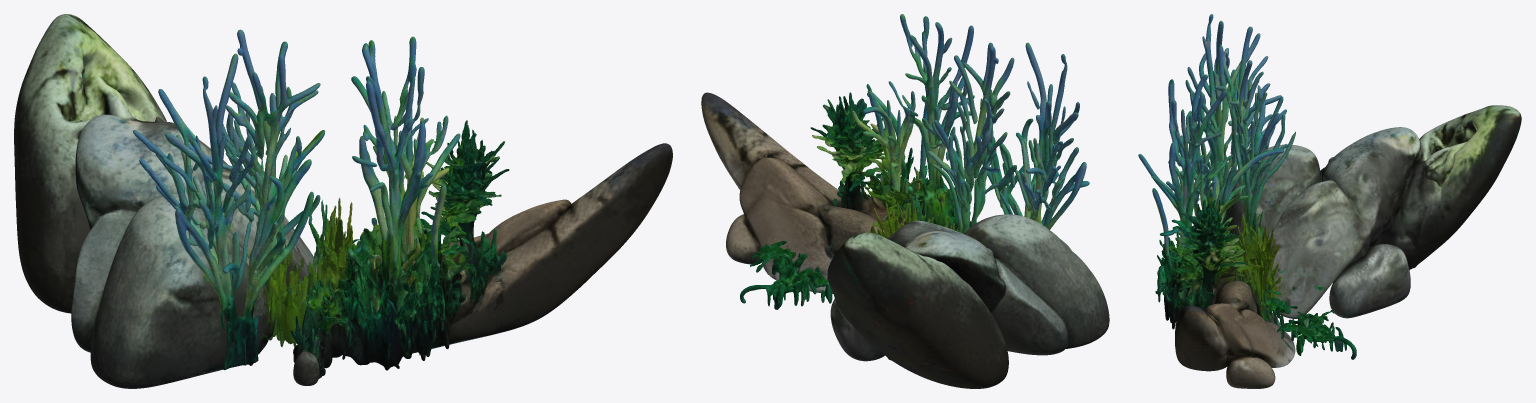
File: rockglb2.glb
3 views of the same model, side by side, from view 1: azimuth 30°, elevation 25°; view 2: azimuth 150°, elevation 25°; view 3: azimuth 270°, elevation 25° (orthographic). The views are drawn at different scales.
Visible parts, largest first — view 1: tripo_node_f28305fb-1a08-400c-8a34-a3056a41e34e; view 2: tripo_node_f28305fb-1a08-400c-8a34-a3056a41e34e; view 3: tripo_node_f28305fb-1a08-400c-8a34-a3056a41e34e.
Boxes of the visible parts, <box> form: tripo_node_f28305fb-1a08-400c-8a34-a3056a41e34e: <box>14,14,672,388</box>; tripo_node_f28305fb-1a08-400c-8a34-a3056a41e34e: <box>701,14,1109,388</box>; tripo_node_f28305fb-1a08-400c-8a34-a3056a41e34e: <box>1138,14,1521,388</box>.
Size of the model in its own units: 1 by 0.599 by 0.8235.
1 material, 1 textured.
